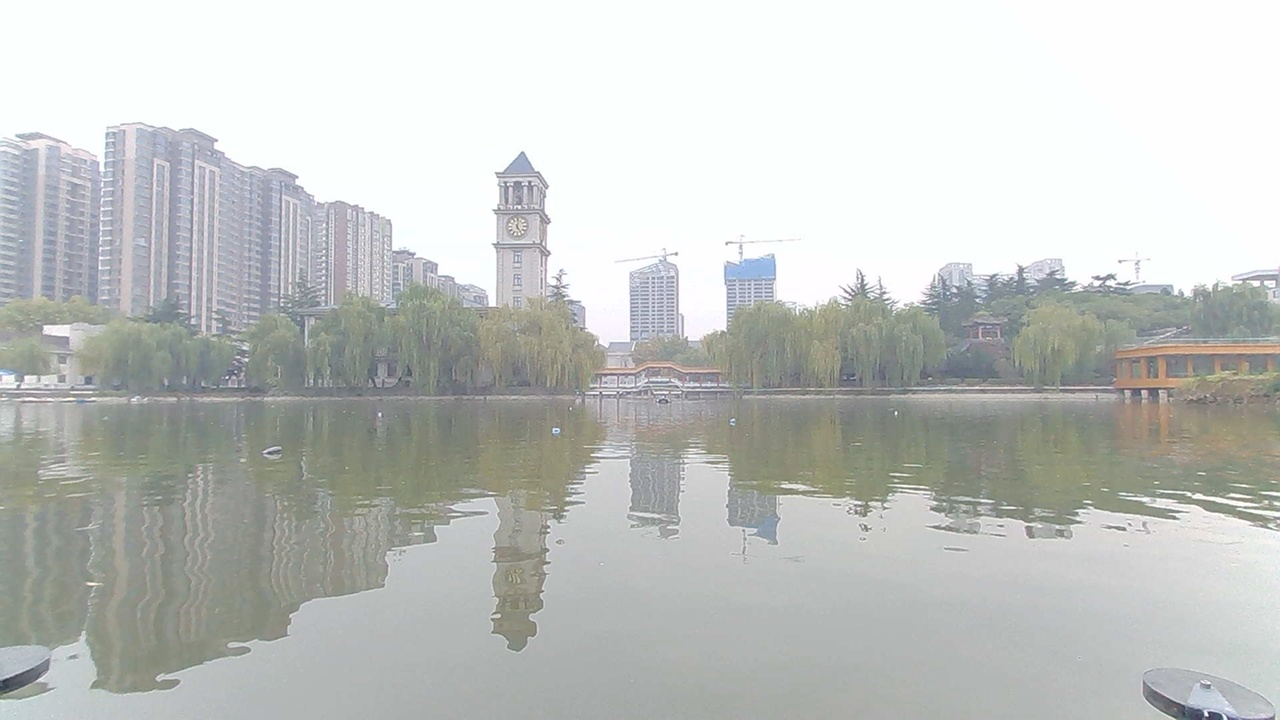bottle: (260, 438, 297, 467), (363, 402, 400, 431), (718, 406, 752, 433), (885, 399, 915, 425), (539, 418, 576, 439), (571, 399, 600, 421)
